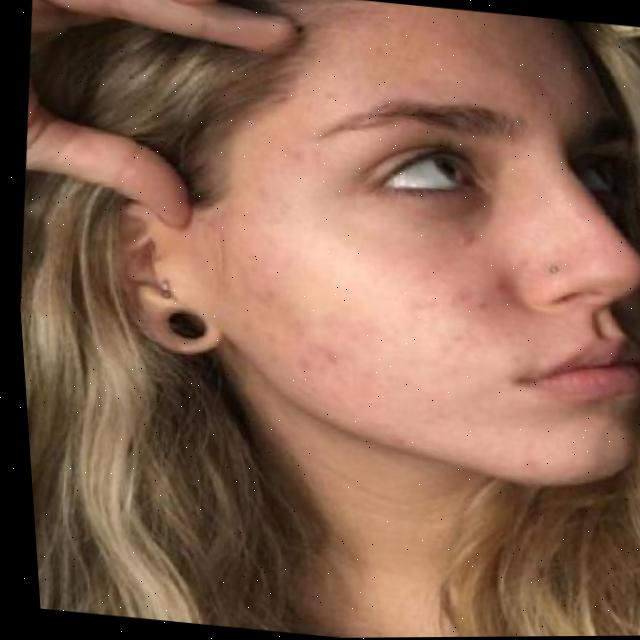Acne: (234, 193, 502, 397)
